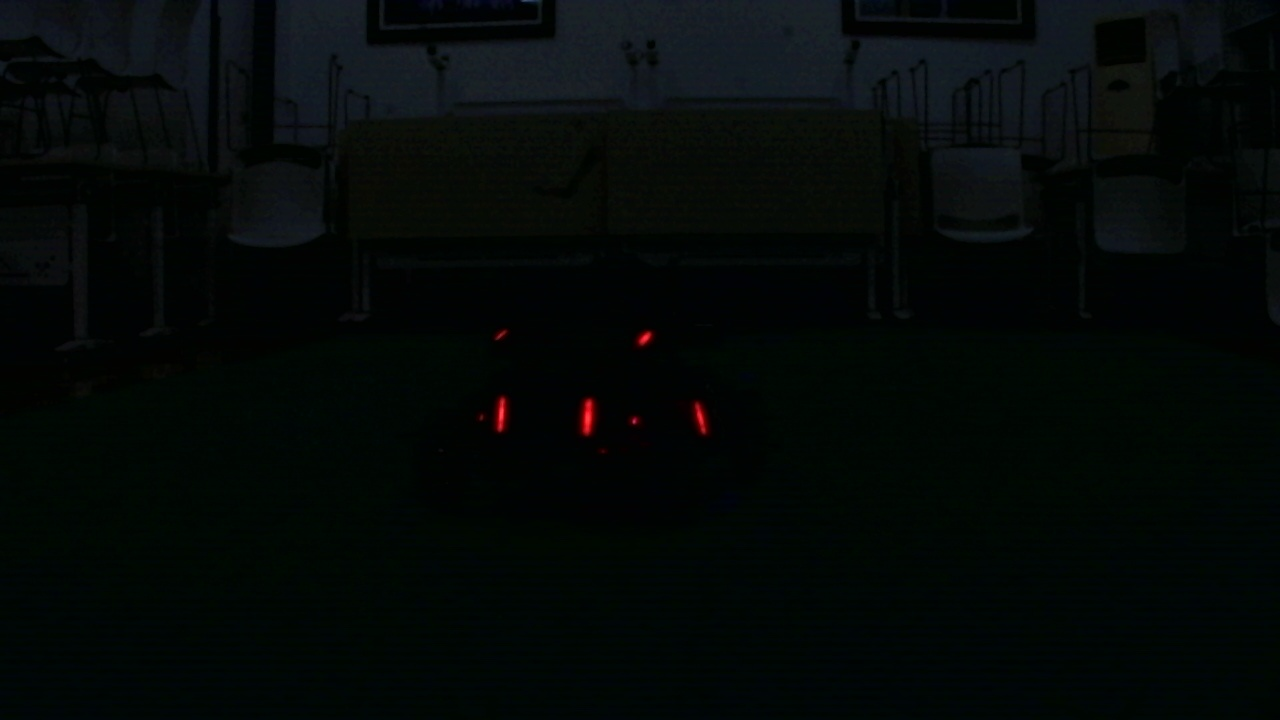lamp: (693, 399, 714, 438), (581, 399, 596, 437), (495, 394, 508, 436)
pair1: (499, 395, 599, 434)
